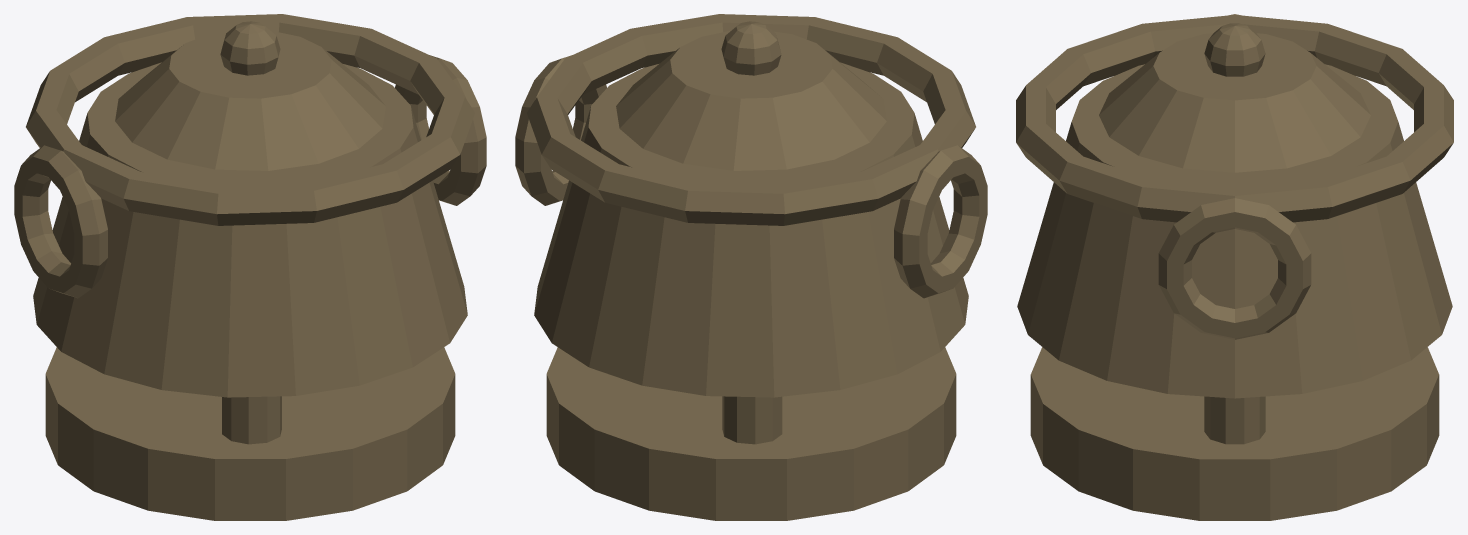
File: mieu-hoang-lu-huong-dong.glb
The picture shows the model from 3 angles, left to right: view 1: azimuth 30°, elevation 25°; view 2: azimuth 150°, elevation 25°; view 3: azimuth 270°, elevation 25°; orthographic projection.
Parts seen in each view (by area): view 1: mieu-hoang-lu-huong-dong; view 2: mieu-hoang-lu-huong-dong; view 3: mieu-hoang-lu-huong-dong.
Part boxes in pixels (x1,y1,x2,y2): mieu-hoang-lu-huong-dong: [14, 14, 486, 520]; mieu-hoang-lu-huong-dong: [515, 14, 987, 520]; mieu-hoang-lu-huong-dong: [1016, 14, 1453, 520].
Size of the model in its own units: 0.6833 by 0.665 by 0.6435.
